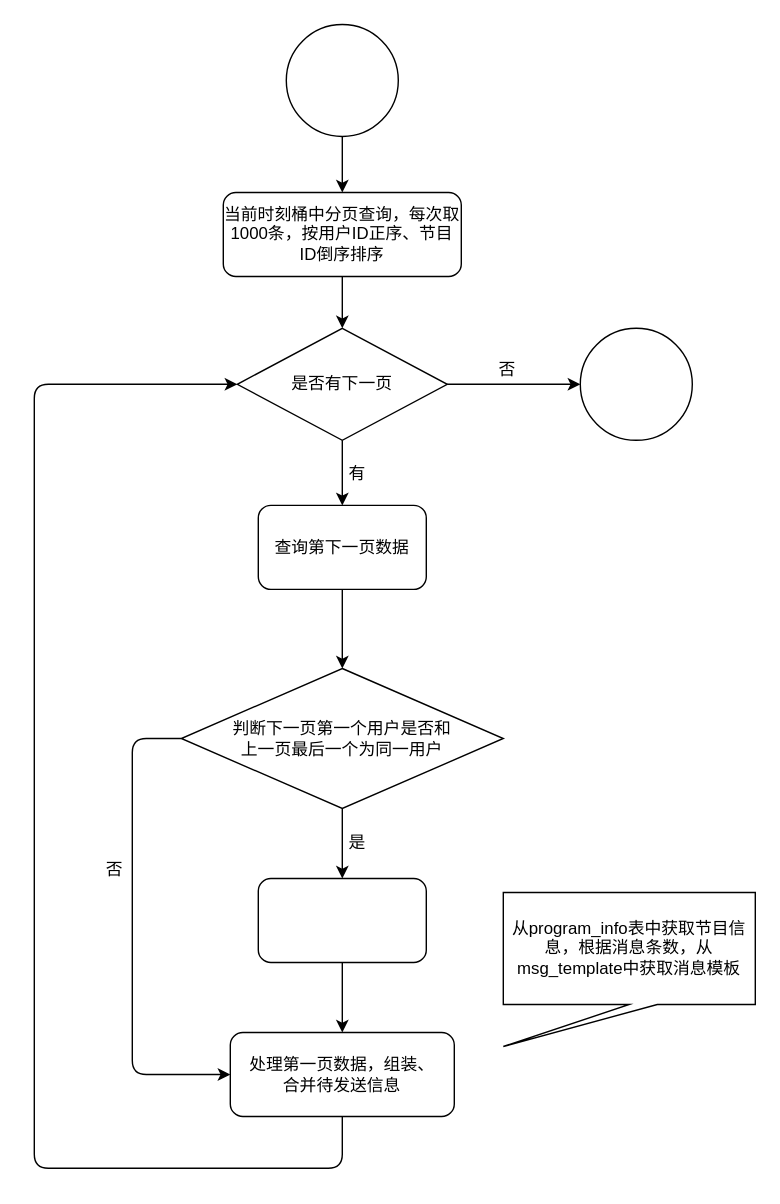
This 780x1204 diagram has some shape labels left out. Here are the shapes that lost their labels. From the top down, the centre of each, then its label:
the point at 341,79: 任务启动
the point at 635,383: 结束
the point at 341,919: 把下一页中该用户数据移入第一页数据集合中
